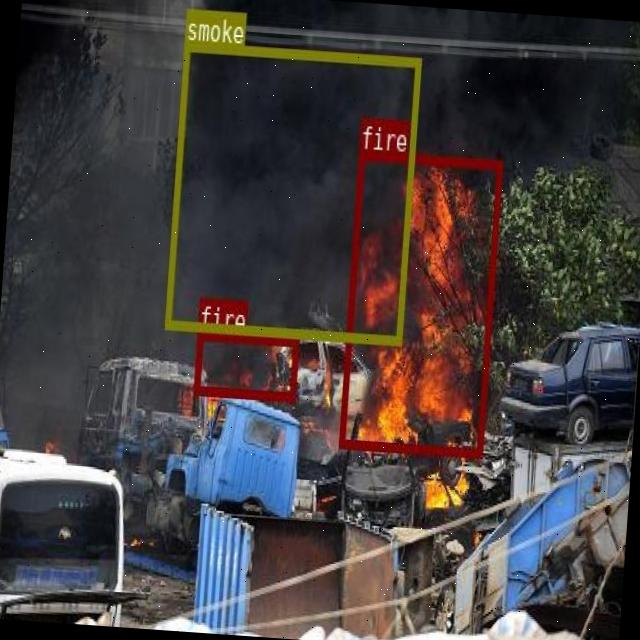fire: (338, 150, 502, 456), (192, 330, 298, 400)
smoke: (163, 39, 421, 343)
